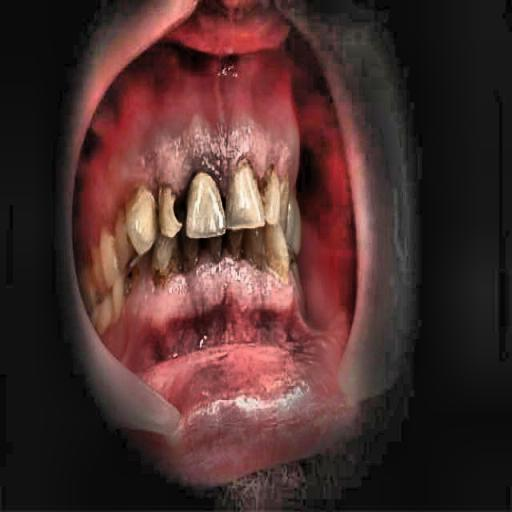Caries: (144, 174, 200, 242), (112, 235, 168, 293)
